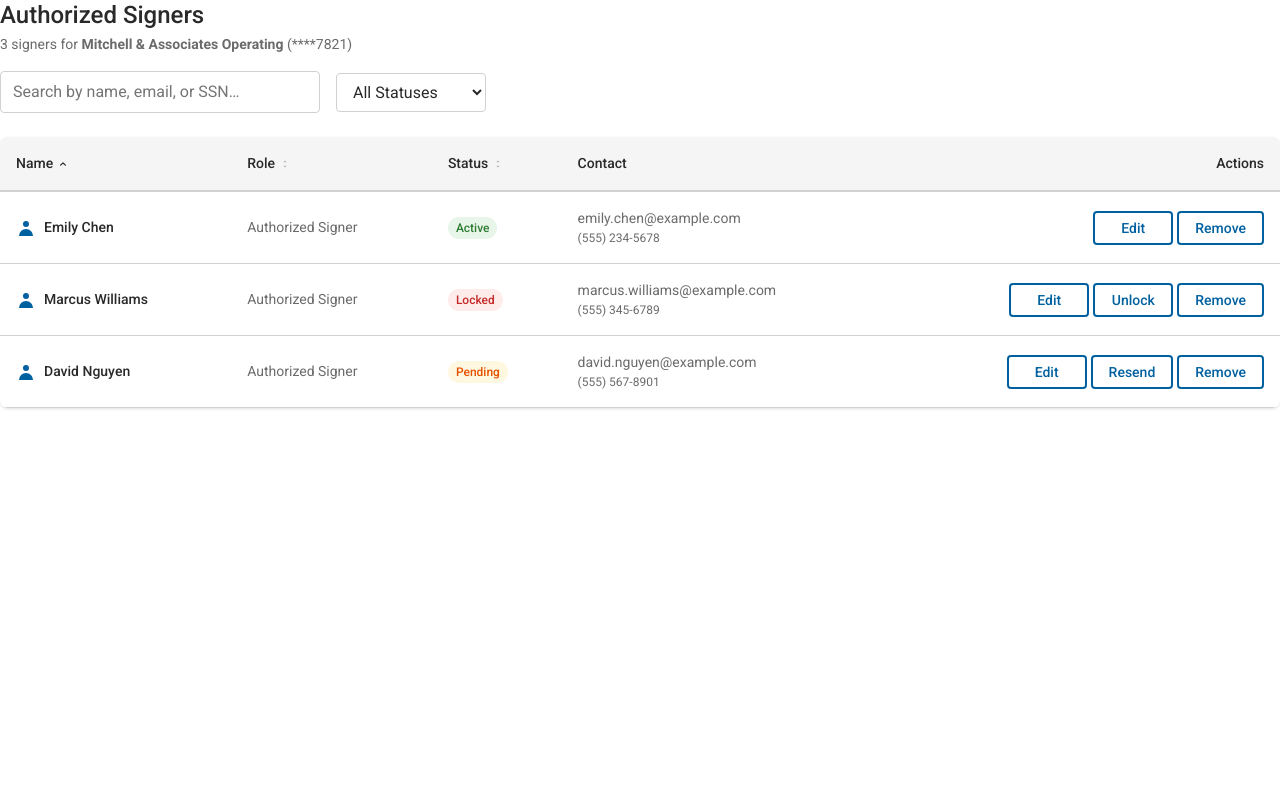
Test: SignerList › remove signer modal › closes remove modal when Cancel is clicked
Click the button with aria-label "remove signer" at coordinates (1221, 228), box [1177,210,1264,244]
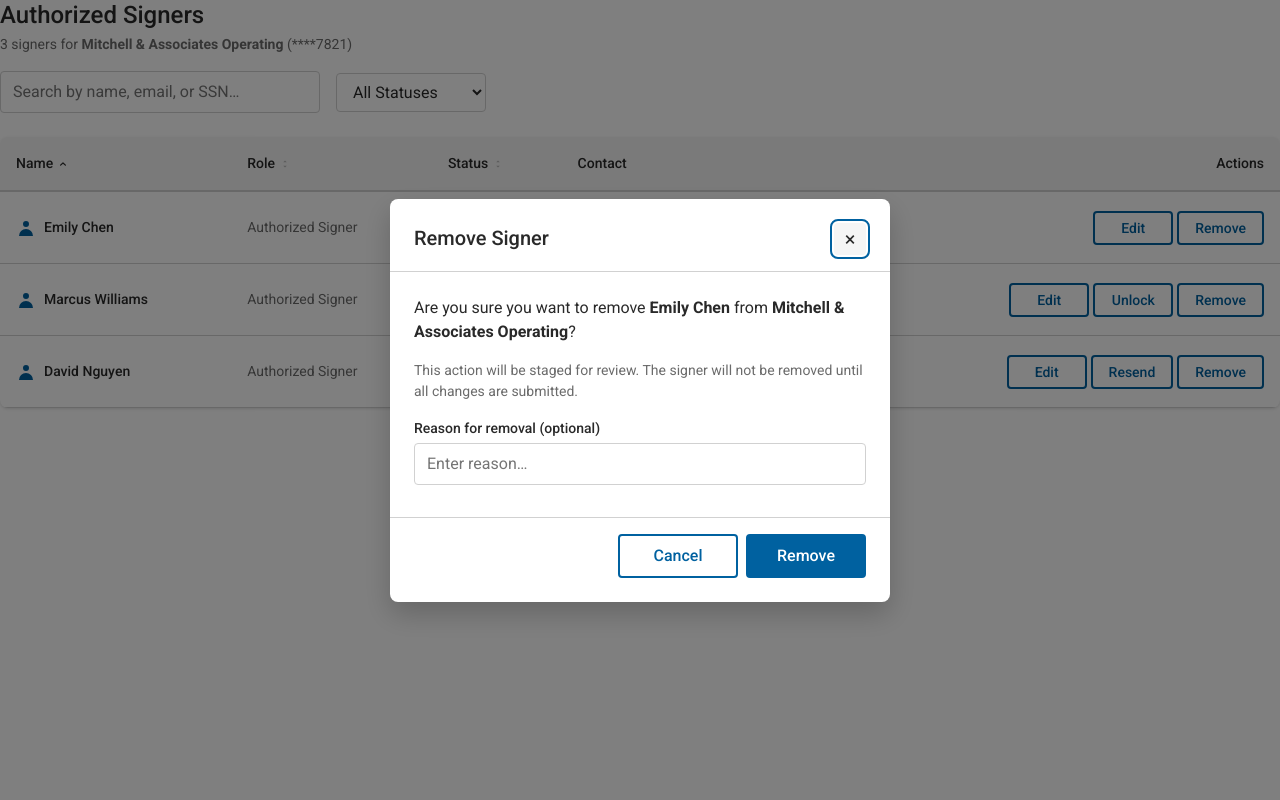
Expected: the text "Are you sure you want to remove" is shown, [414,298,646,316]
Click the button "Cancel" at coordinates (678, 556), box [618,534,738,578]
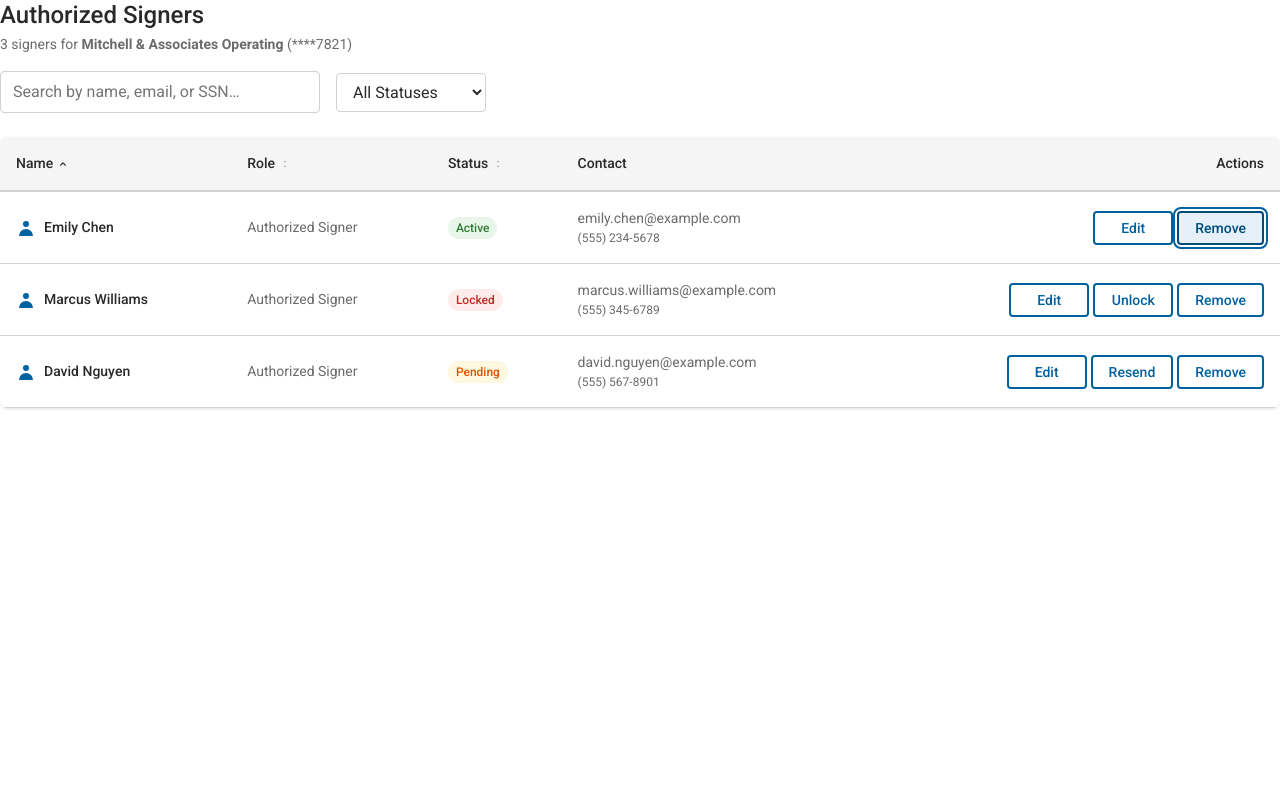
Expected: the text "Are you sure you want to remove" is gone
